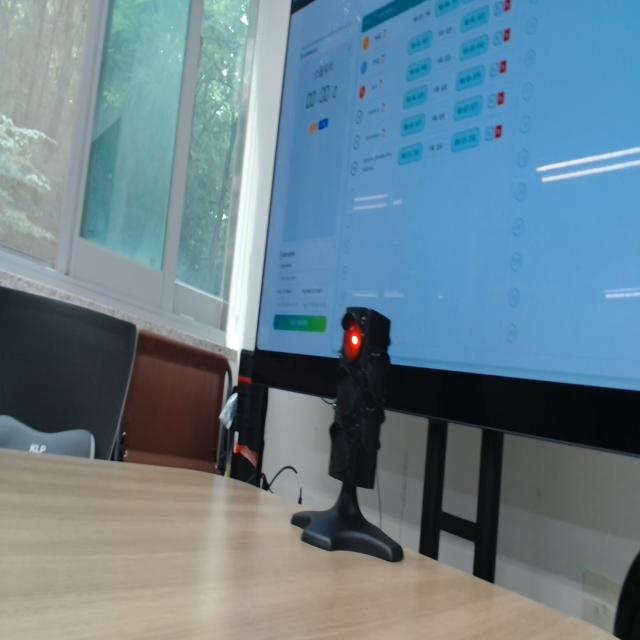red_light: (344, 325, 362, 361)
